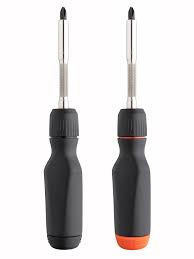Screwdriver: (31, 0, 95, 250), (117, 3, 165, 253)
